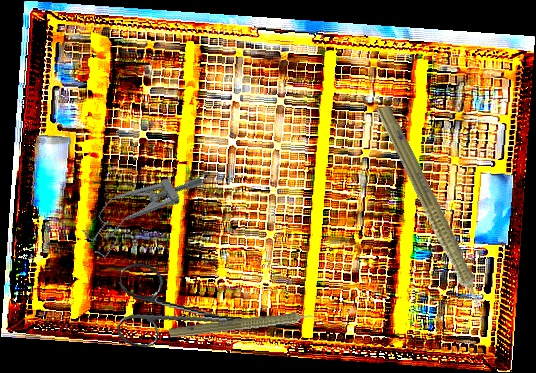Handpiece: (367, 102, 498, 328), (168, 306, 326, 345)
Iris Scissors: (110, 261, 264, 363)
Speculum: (75, 152, 209, 262)
